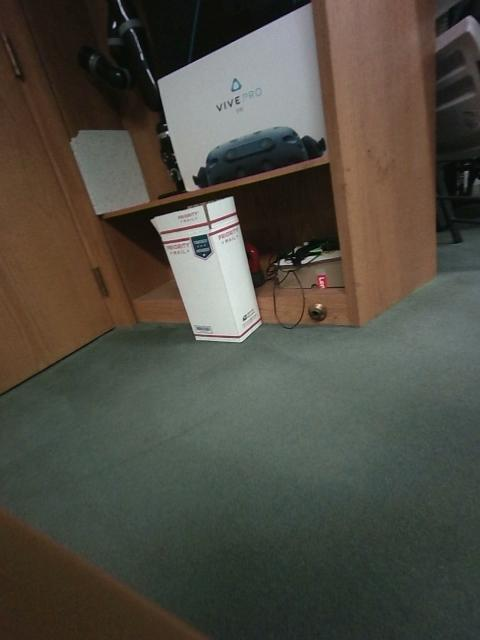block: (423, 326, 480, 381)
